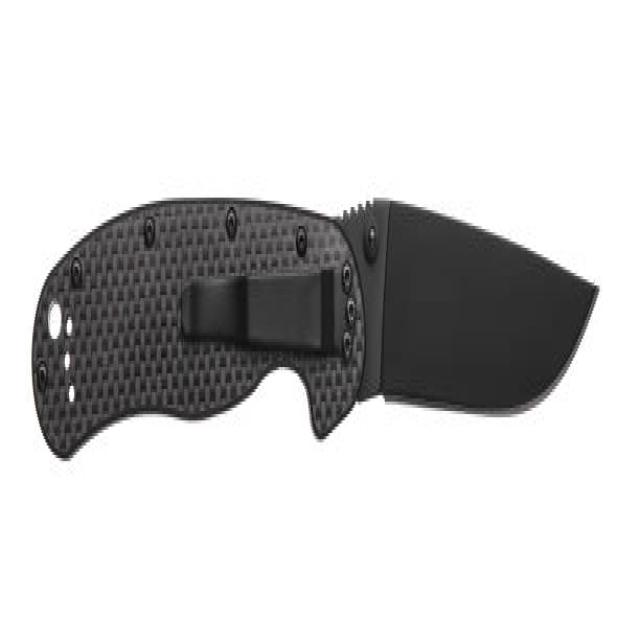knife: (20, 131, 606, 503)
